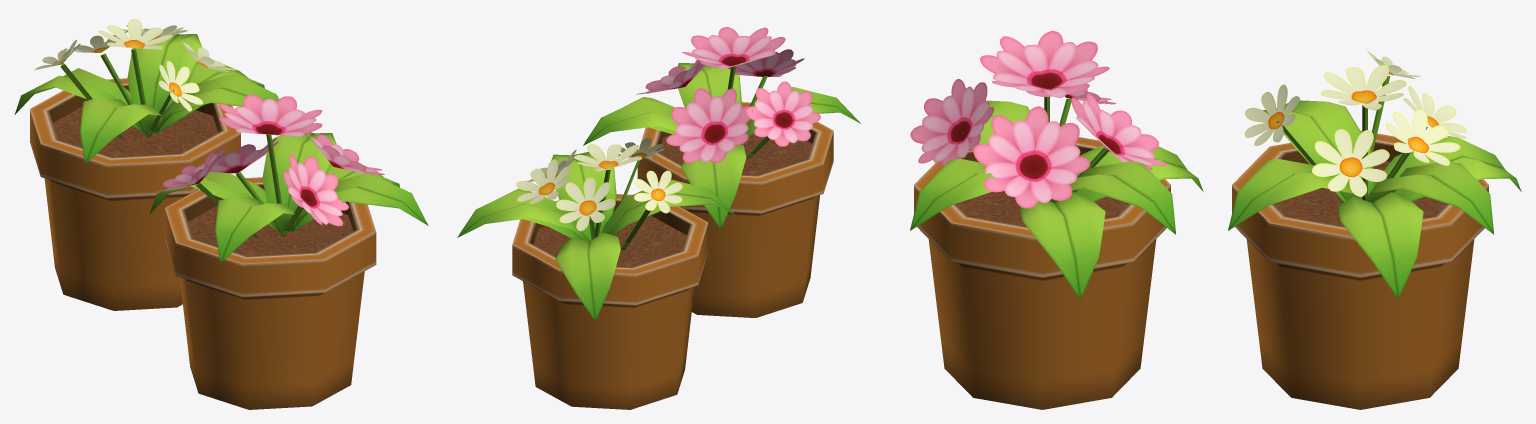
Rendered from bg_pot.FBX.
3 views of the same model, side by side, from view 1: azimuth 30°, elevation 25°; view 2: azimuth 150°, elevation 25°; view 3: azimuth 270°, elevation 25° (orthographic). The views are drawn at different scales.
Visible parts, largest first — view 1: bg_pot_fl1, bg_pot_fl2; view 2: bg_pot_fl2, bg_pot_fl1; view 3: bg_pot_fl1, bg_pot_fl2.
Part boxes in pixels (left/top/right/bottom): bg_pot_fl1: left=150, top=94, right=428, bottom=409; bg_pot_fl2: left=14, top=18, right=278, bottom=310; bg_pot_fl2: left=457, top=138, right=735, bottom=409; bg_pot_fl1: left=583, top=27, right=860, bottom=317; bg_pot_fl1: left=910, top=30, right=1203, bottom=409; bg_pot_fl2: left=1228, top=48, right=1521, bottom=409.
Bounding box in the file's own units: 9.79 × 10.09 × 18.27.
